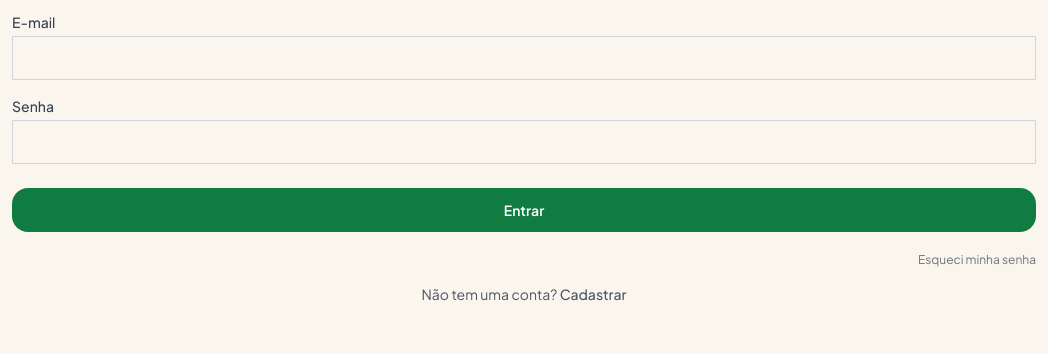
Test: LoginForm › should display API error message when login fails
Type "joao@example.com" into the field labelled "E-mail" at (524, 58), box 12,36 -> 1036,80
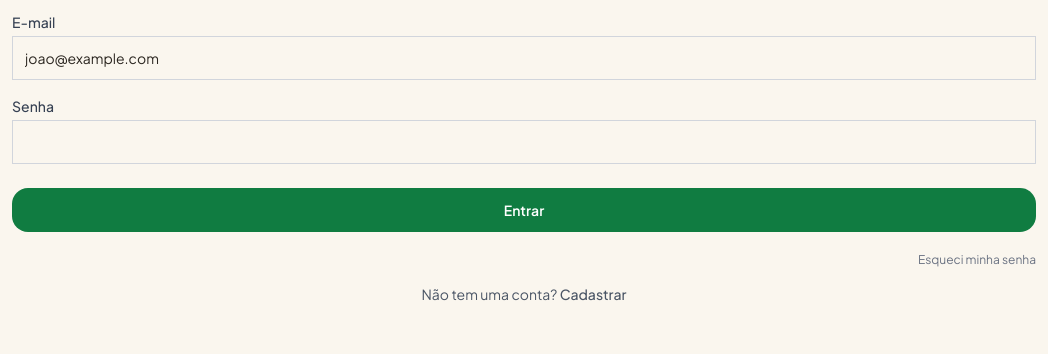
Type "senhaerrada" into the password field labelled "Senha" at (524, 142), box 12,120 -> 1036,164
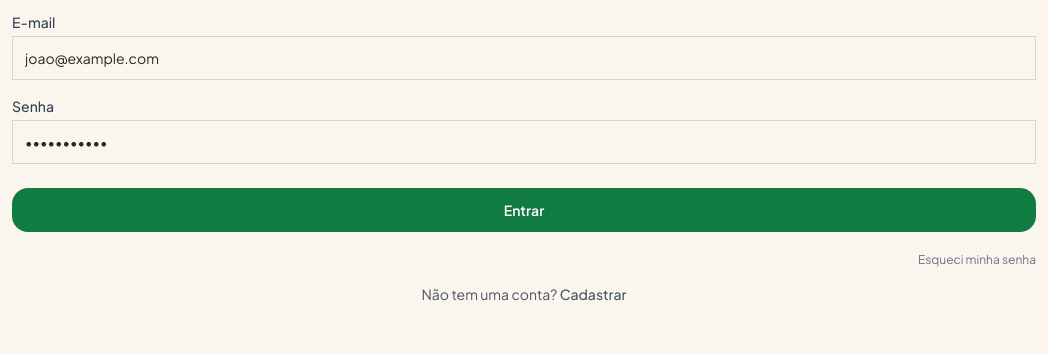
Click the button "Entrar" at (524, 210), box 12,188 -> 1036,232
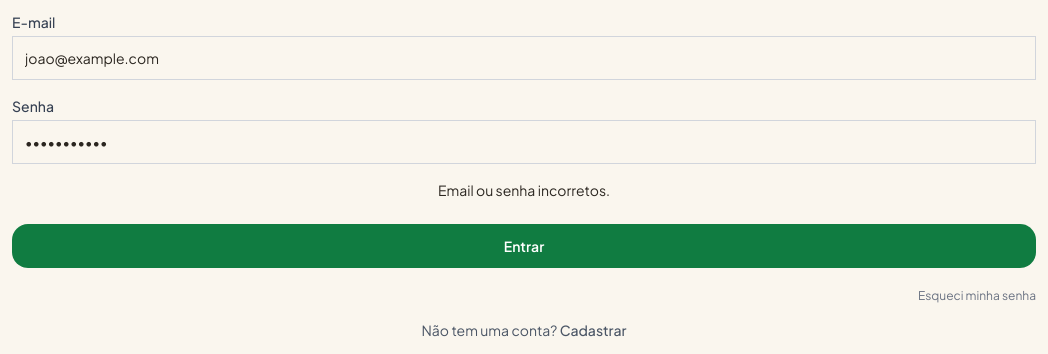
Check: the text "Email ou senha incorretos." is shown, box 438,181 -> 610,199
